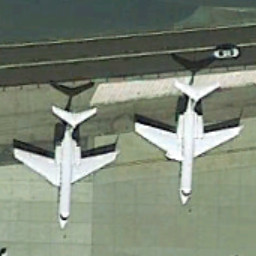Airplane: (9, 90, 125, 237), (133, 70, 248, 211)
